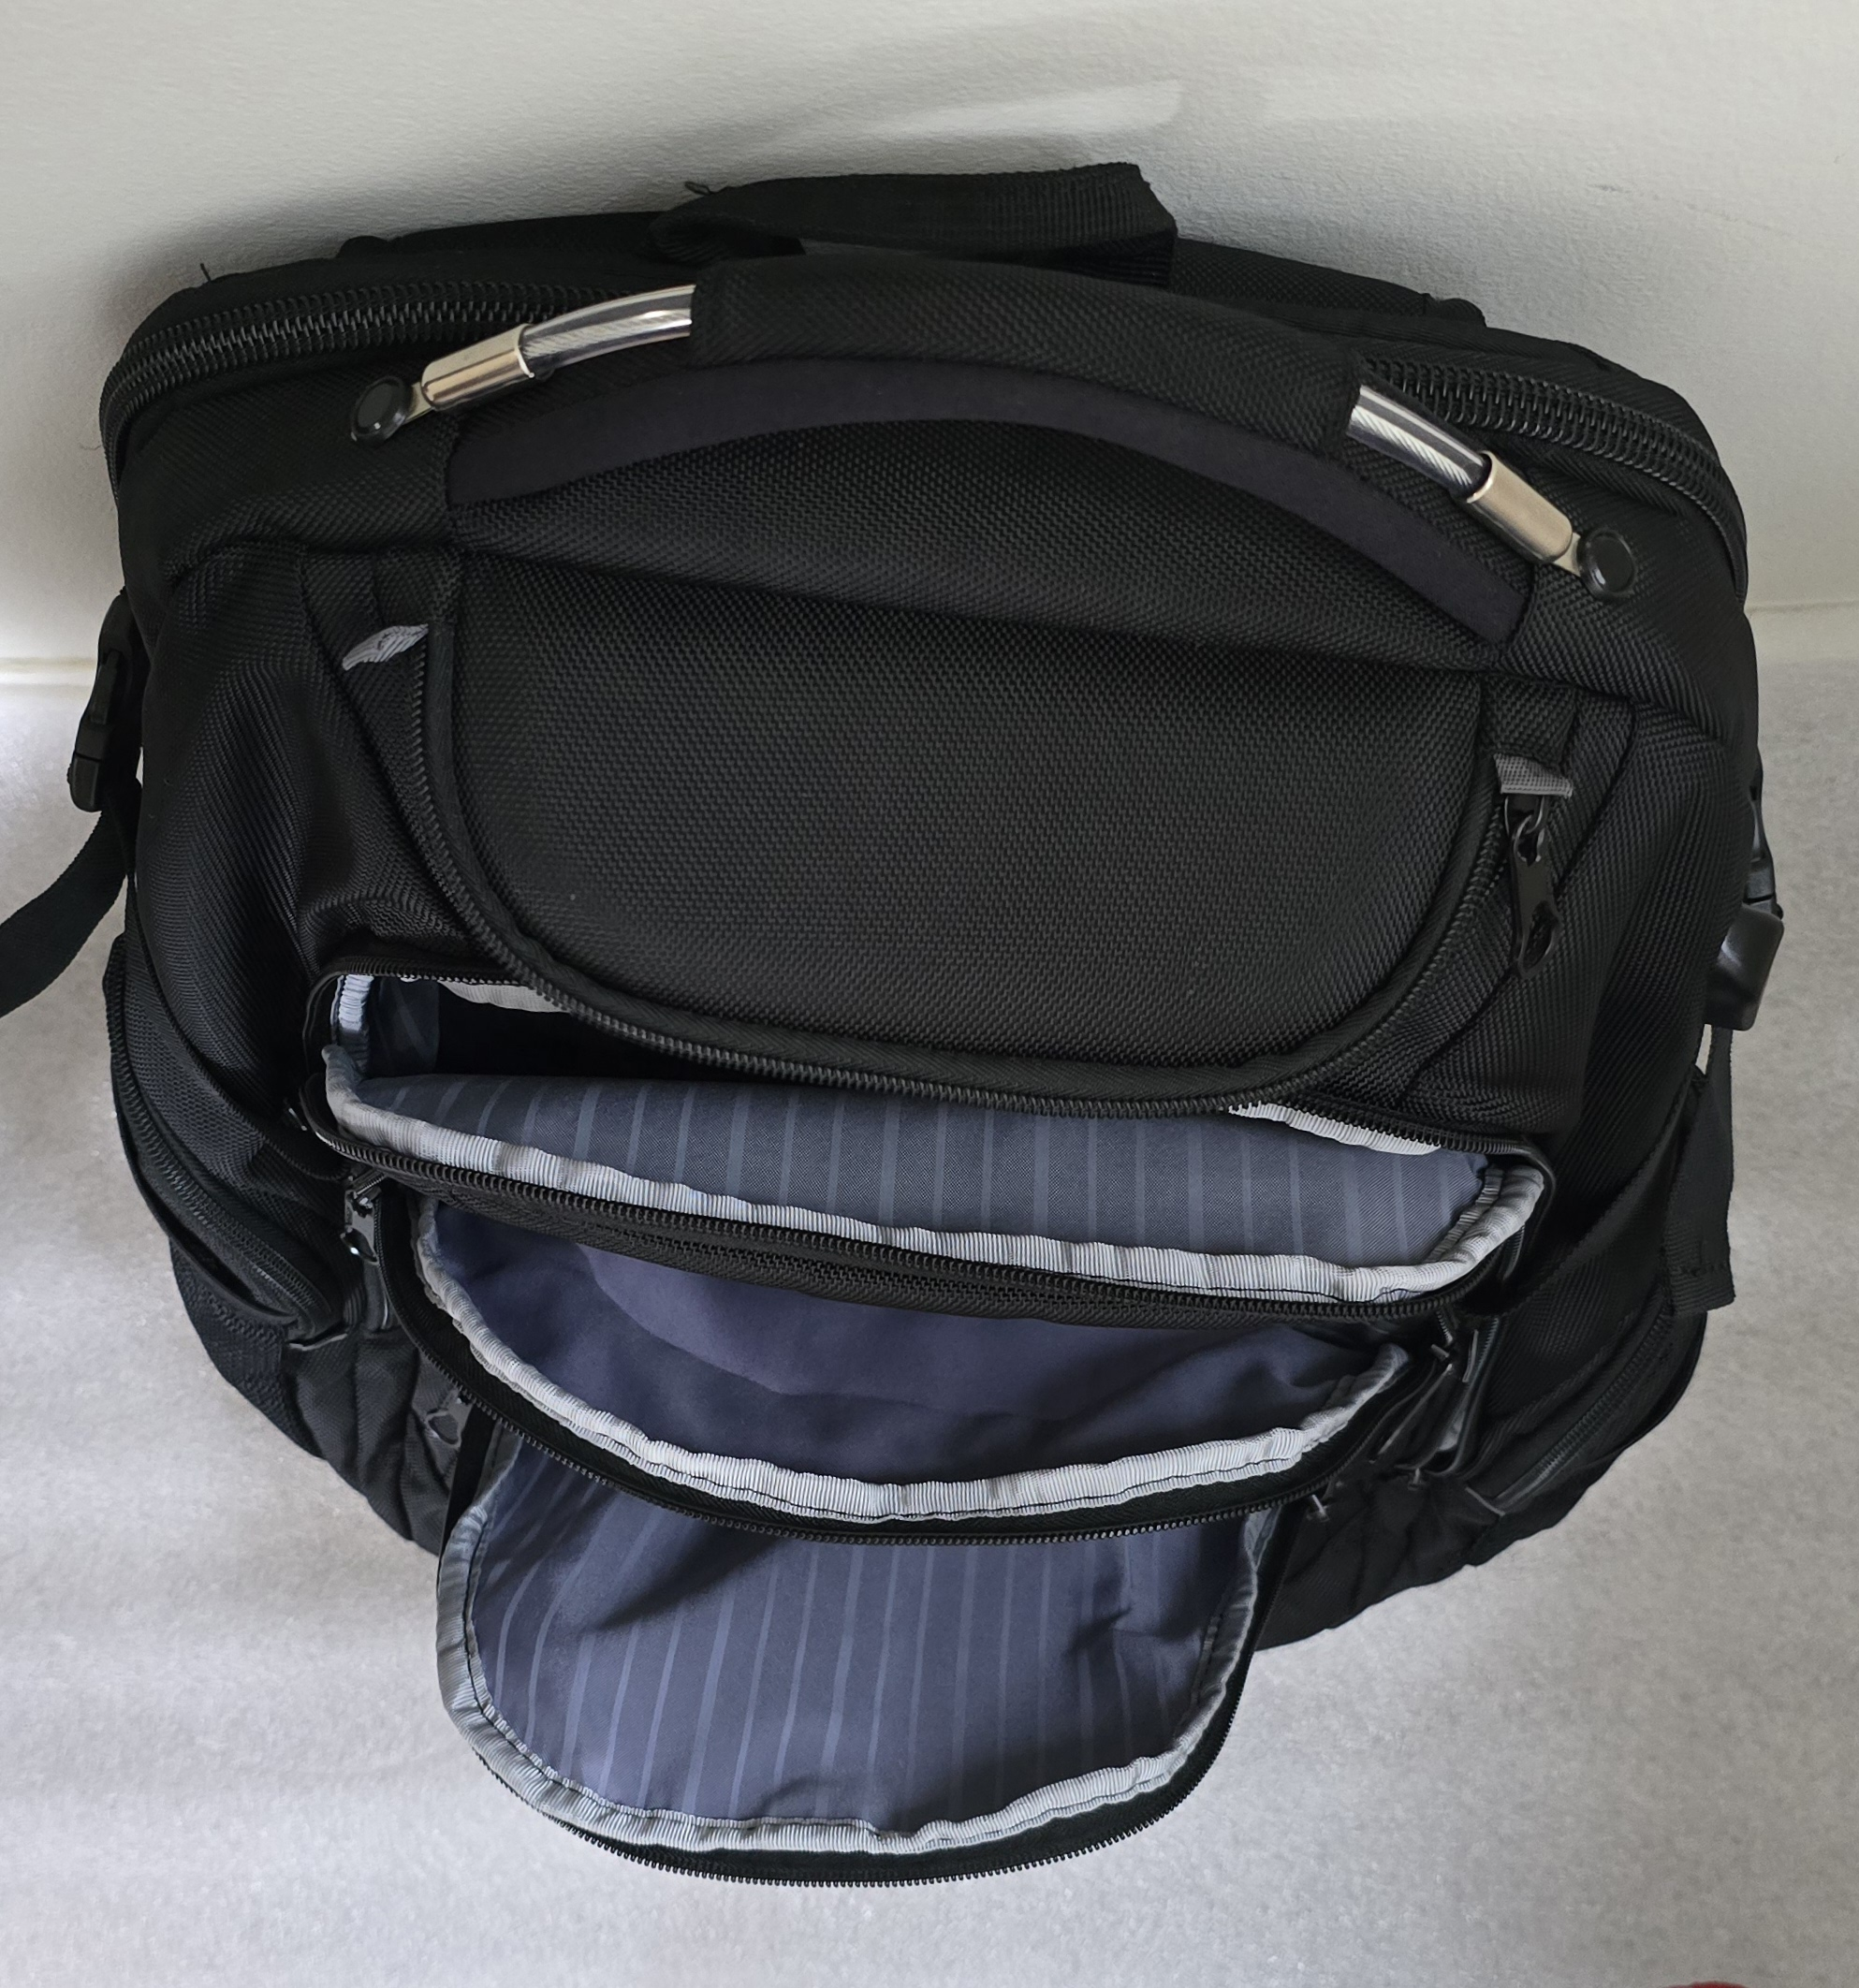bag: (75, 112, 1854, 1920)
